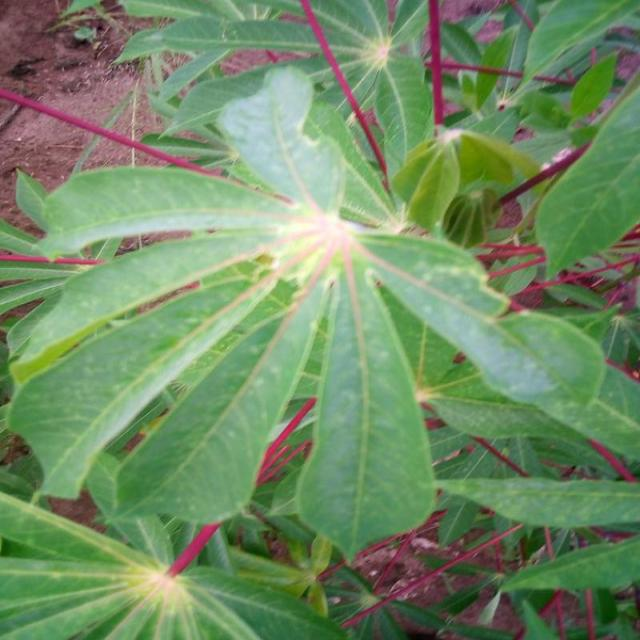cassava leaf: (5, 62, 623, 563), (294, 242, 436, 562)
